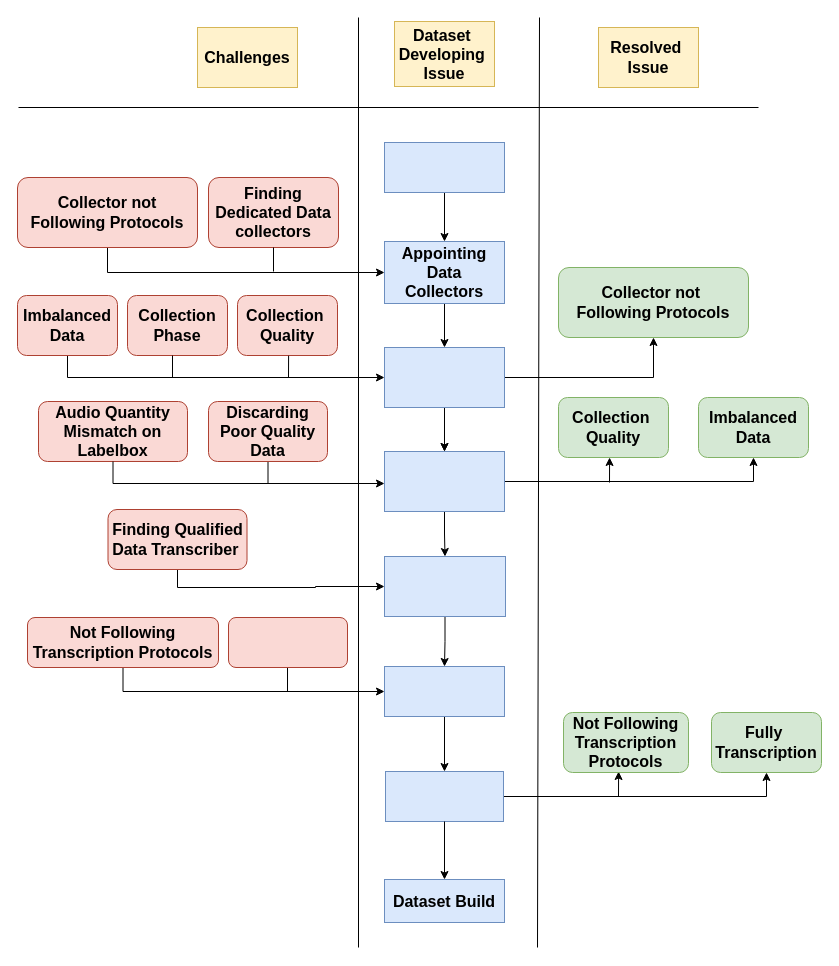
This 839x966 diagram has some shape labels left out. Each missing label, with the centre of its shape:
"Annotation Validation" belongs at (x=444, y=796).
"Appointing Data Transcriber" belongs at (x=445, y=586).
"Collect Data According to Protocols" belongs at (x=444, y=377).
"Data Annotation" belongs at (x=444, y=691).
"Distinct Selection" belongs at (x=444, y=167).
"Faulty Transcription" belongs at (x=288, y=642).
"Raw Data Validation & Processing" belongs at (x=444, y=481).
